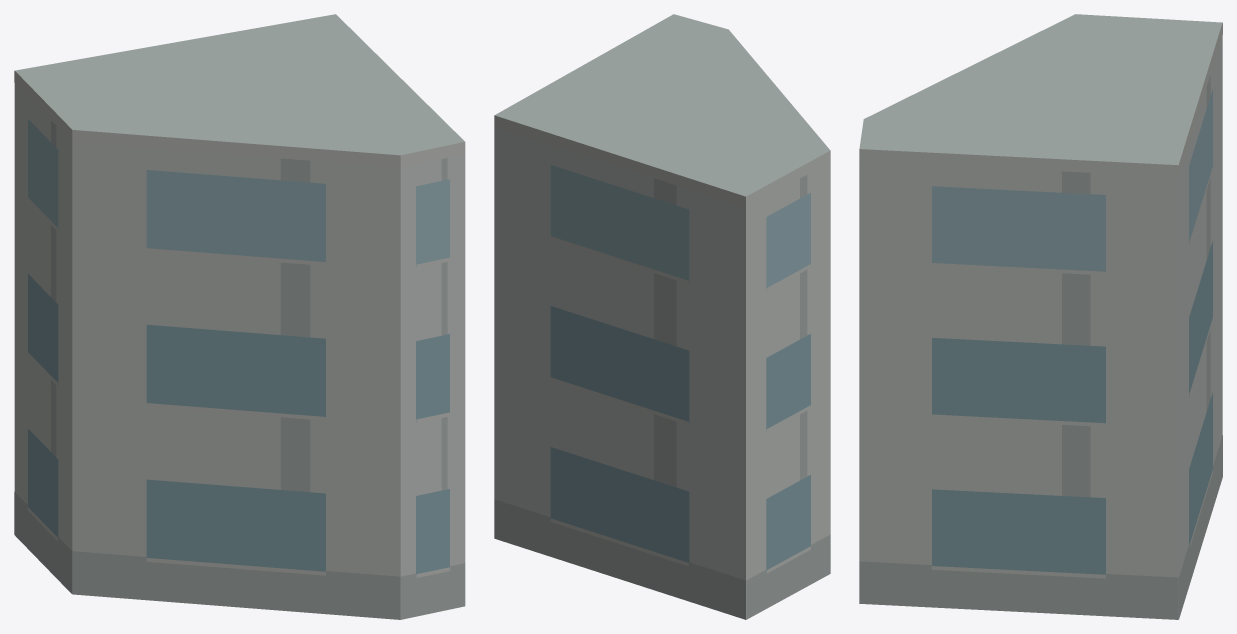
File: residential-0d71dd0a-1cda-4728-852e-a85b7399b529.glb
3 renders of one model, left to right at view 1: azimuth 30°, elevation 25°; view 2: azimuth 150°, elevation 25°; view 3: azimuth 270°, elevation 25°, orthographic. The views are drawn at different scales.
Visible parts, largest first — view 1: residential-0d71dd0a-1cda-4728-852e-a85b7399b529.tmp; view 2: residential-0d71dd0a-1cda-4728-852e-a85b7399b529.tmp; view 3: residential-0d71dd0a-1cda-4728-852e-a85b7399b529.tmp.
Boxes of the visible parts, x1,y1,x2,y2 form: residential-0d71dd0a-1cda-4728-852e-a85b7399b529.tmp: [14, 14, 465, 619]; residential-0d71dd0a-1cda-4728-852e-a85b7399b529.tmp: [494, 14, 830, 619]; residential-0d71dd0a-1cda-4728-852e-a85b7399b529.tmp: [859, 14, 1222, 619].
Size of the model in its own units: 6.53 by 9.15 by 6.64.
